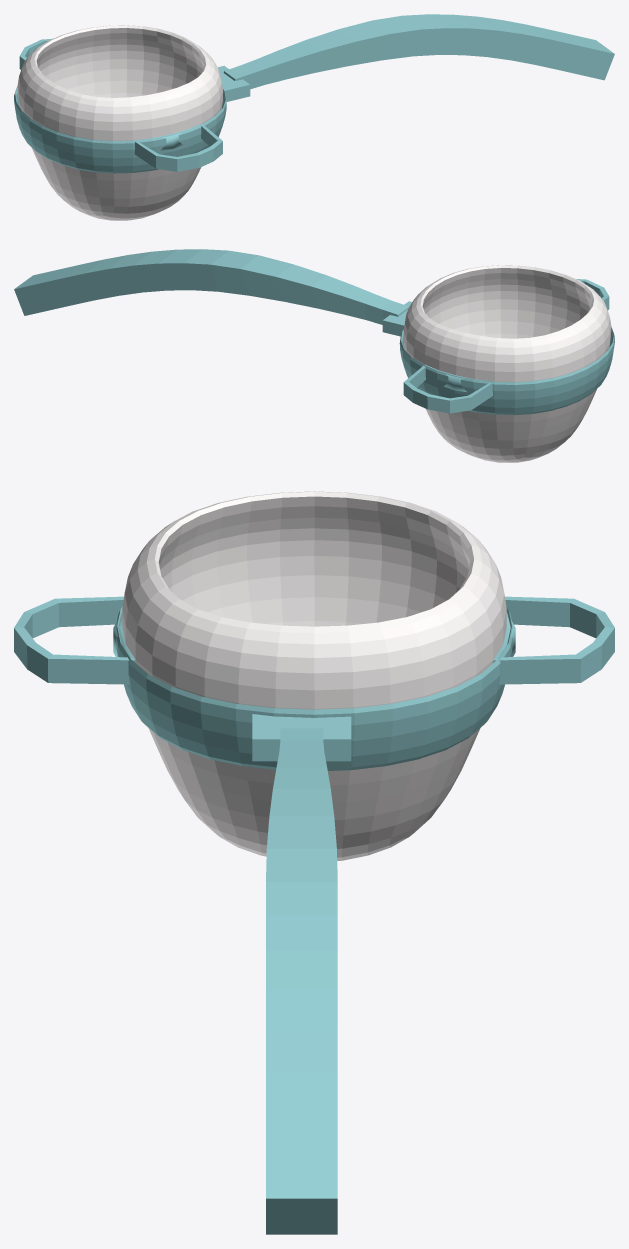
File: kol1.fbx
The picture shows the model from 3 angles, top to bottom: view 1: azimuth 30°, elevation 25°; view 2: azimuth 150°, elevation 25°; view 3: azimuth 270°, elevation 25°; orthographic projection. The views are drawn at different scales.
Parts seen in each view (by area): view 1: Cube.019; view 2: Cube.019; view 3: Cube.019.
Boxes of the visible parts, x1,y1,x2,y2 form: Cube.019: (14, 14, 614, 220); Cube.019: (14, 249, 614, 462); Cube.019: (14, 491, 614, 1234).
Size of the model in its own units: 1885 by 471 by 900.
